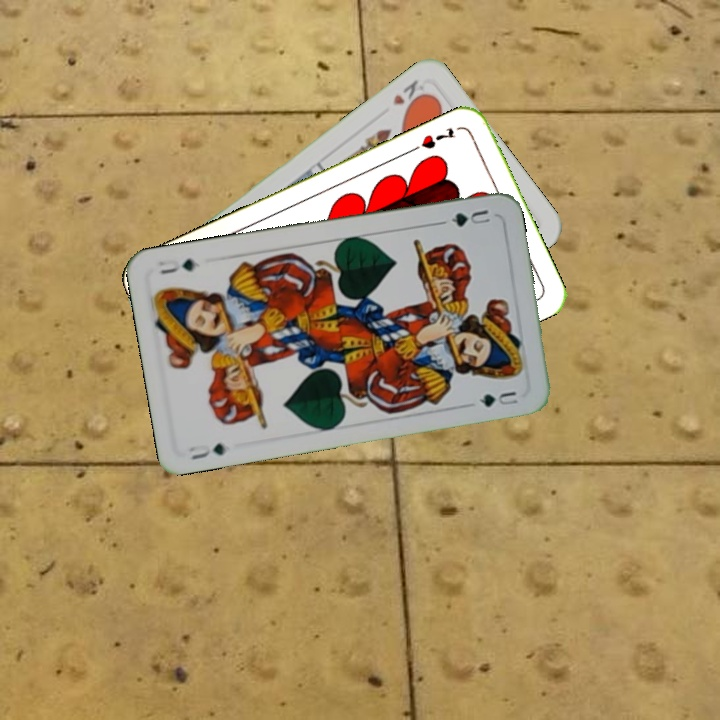GU: (447, 205, 493, 230), (184, 439, 229, 462)
H7: (407, 123, 458, 155)
HK: (388, 75, 430, 114)
